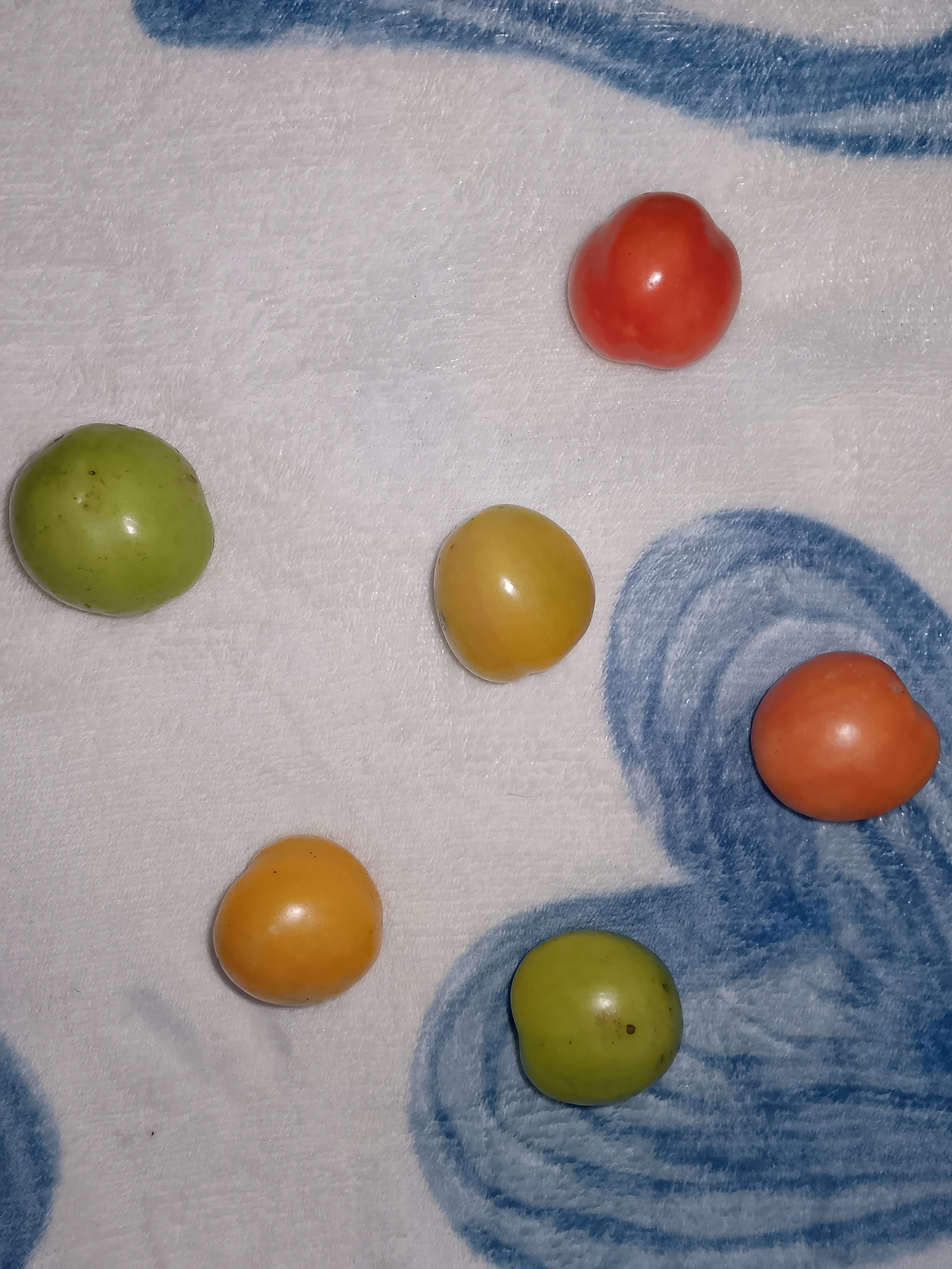Ripe: (714, 615, 952, 888), (535, 163, 802, 402)
Unripe: (0, 345, 254, 628), (177, 810, 421, 1033), (475, 913, 729, 1121), (421, 457, 605, 721)
